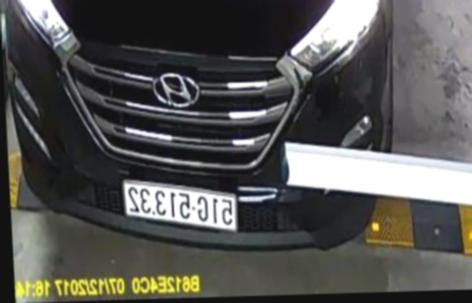License_Plate: (119, 171, 244, 241)
